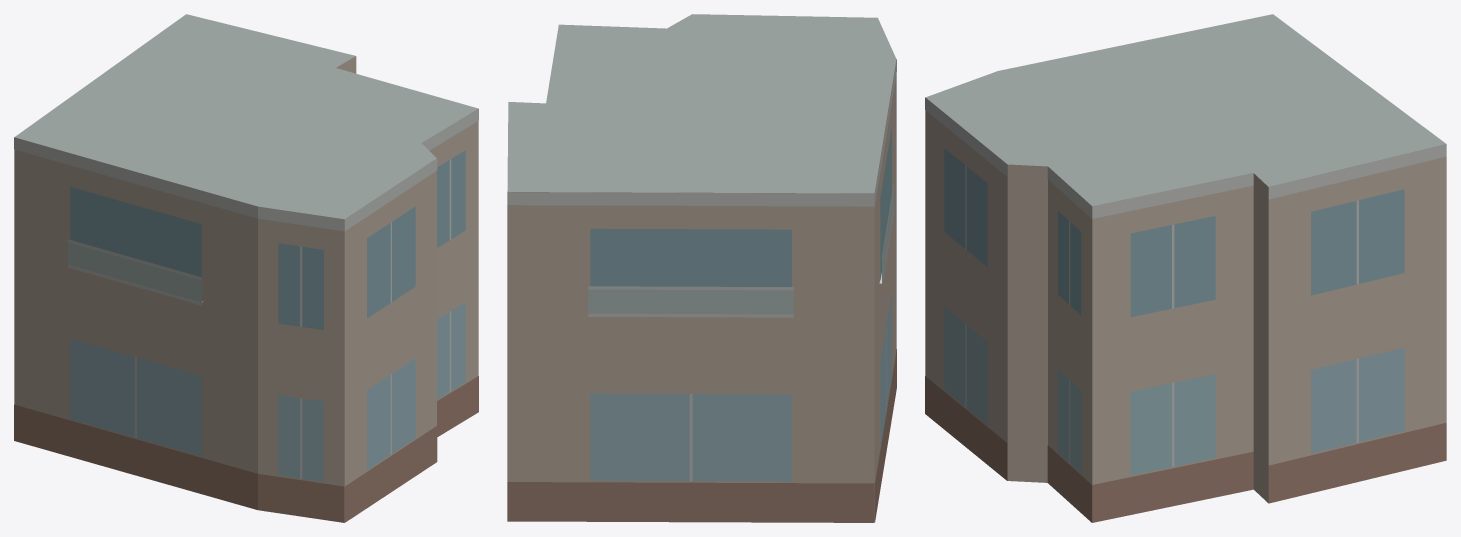
File: survey-upis-32463241.glb
3 renders of one model, left to right at view 1: azimuth 30°, elevation 25°; view 2: azimuth 150°, elevation 25°; view 3: azimuth 270°, elevation 25°, orthographic. The views are drawn at different scales.
Parts seen in each view (by area): view 1: survey-upis-32463241.tmp; view 2: survey-upis-32463241.tmp; view 3: survey-upis-32463241.tmp.
Part boxes in pixels (x1,y1,x2,y2): survey-upis-32463241.tmp: [14, 14, 478, 522]; survey-upis-32463241.tmp: [507, 14, 896, 522]; survey-upis-32463241.tmp: [925, 14, 1446, 522].
Size of the model in its own units: 7.96 by 6.1 by 9.11.
